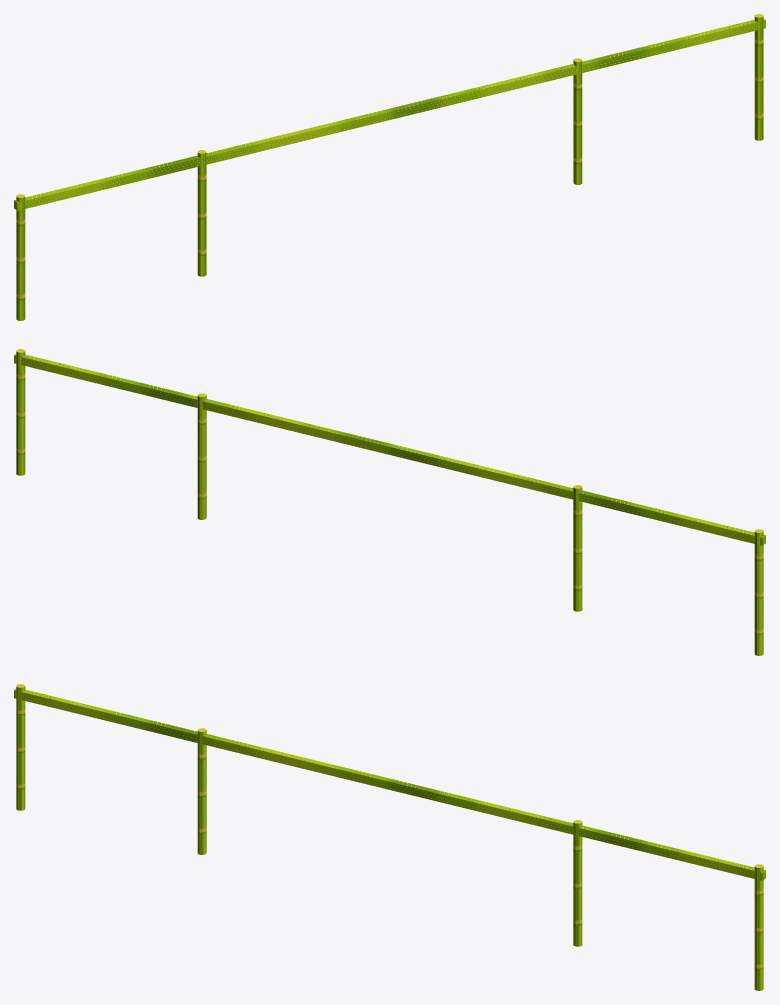
Rendered from gate-24-north-gate-frame-BMG19vFR.glb.
The picture shows the model from 3 angles, top to bottom: view 1: azimuth 30°, elevation 25°; view 2: azimuth 150°, elevation 25°; view 3: azimuth 330°, elevation 25°; orthographic projection.
Visible parts, largest first — view 1: HI_Gate_24_north-gate_frame; view 2: HI_Gate_24_north-gate_frame; view 3: HI_Gate_24_north-gate_frame.
Boxes of the visible parts, bbox=[...] form: HI_Gate_24_north-gate_frame: bbox=[14, 14, 765, 320]; HI_Gate_24_north-gate_frame: bbox=[14, 349, 765, 655]; HI_Gate_24_north-gate_frame: bbox=[14, 684, 765, 990].
Bounding box in the file's own units: 22.3 × 3.5 × 0.24.
Materials: 1 (1 with a texture image).
